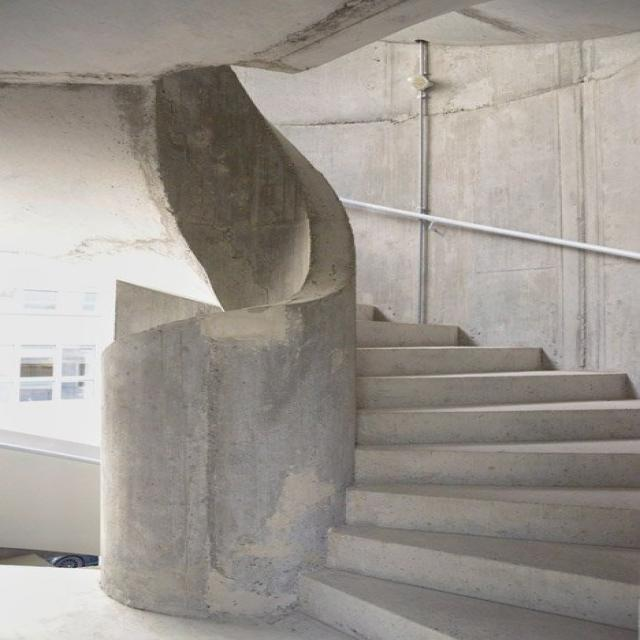upstair: (316, 302, 617, 634)
